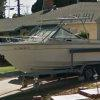Boat: (1, 20, 96, 81)
